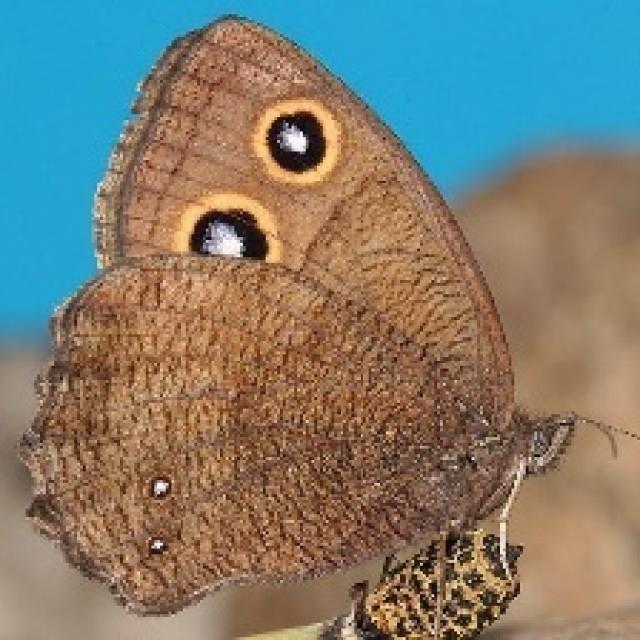butterfly: (14, 12, 637, 637)
